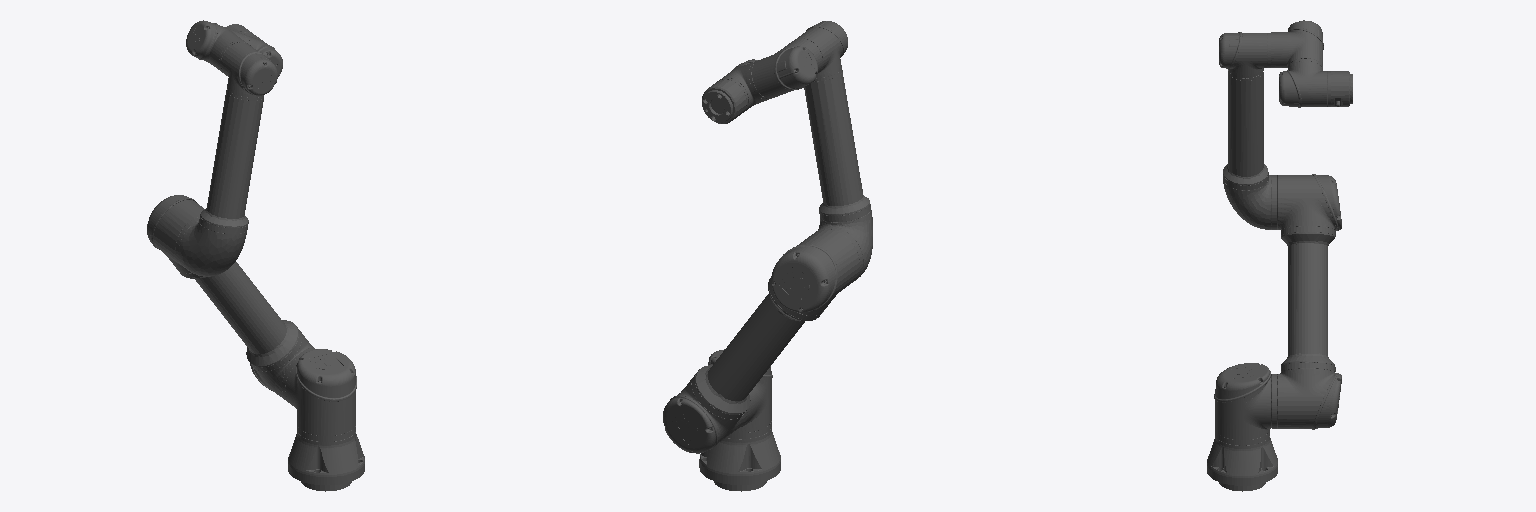
The robot description file, URDF, robot "ur5e_robot":
<?xml version="1.0" ?>
<!-- =================================================================================== -->
<!-- |    This document was autogenerated by xacro from ur5e.xacro                     | -->
<!-- |    EDITING THIS FILE BY HAND IS NOT RECOMMENDED                                 | -->
<!-- =================================================================================== -->
<robot name="ur5e_robot">
  <!--
    Base UR robot series xacro macro.

    NOTE: this is NOT a URDF. It cannot directly be loaded by consumers
    expecting a flattened '.urdf' file. See the top-level '.xacro' for that
    (but note: that .xacro must still be processed by the xacro command).

    For use in '.launch' files: use one of the 'load_urX.launch' convenience
    launch files.

    This file models the base kinematic chain of a UR robot, which then gets
    parameterised by various configuration files to convert it into a UR3(e),
    UR5(e), UR10(e) or UR16e.

    NOTE: the default kinematic parameters (ie: link lengths, frame locations,
    offets, etc) do not correspond to any particular robot. They are defaults
    only. There WILL be non-zero offsets between the Forward Kinematics results
    in TF (ie: robot_state_publisher) and the values reported by the Teach
    Pendant.

    For accurate (and robot-specific) transforms, the 'kinematics_parameters_file'
    parameter MUST point to a .yaml file containing the appropriate values for
    the targetted robot.

    If using the UniversalRobots/Universal_Robots_ROS_Driver, follow the steps
    described in the readme of that repository to extract the kinematic
    calibration from the controller and generate the required .yaml file.

    Main author of the migration to yaml configs: [author].

    Contributors to previous versions (in no particular order):

     - [author]
     - [author]
     - [author]
     - [author]
     - [author]
     - [author]
     - [author]
     - [author]
     - [author]
     - [author]
     - [author]
     - [author]
     - [author]
     - [author]
     - [author]
     - [author]
     - [author]
  -->
  <!--
    NOTE: the macro defined in this file is NOT part of the public API of this
          package. Users CANNOT rely on this file being available, or stored in
          this location. Nor can they rely on the existence of the macro.
  -->
  
  <!-- links: main serial chain -->
  <link name="base_link">
    <visual>
      <origin rpy="0 0 0" xyz="0 0 0"/>
      <geometry>
        <cylinder length="0.05" radius="0.05"/>
      </geometry>
      <material name="LightGrey">
        <color rgba="0.4 0.4 0.4 1.0"/>
      </material>
    </visual>
  </link>

  <link name="base_link_inertia">
    <visual>
      <origin rpy="0 0 3.141592653589793" xyz="0 0 0"/>
      <geometry>
        <mesh filename="./visual/base.stl" scale="1 1 1"/>
      </geometry>
      <material name="LightGrey">
        <color rgba="0.4 0.4 0.4 1.0"/>
      </material>
    </visual>
    <collision>
      <origin rpy="0 0 3.141592653589793" xyz="0 0 0"/>
      <geometry>
        <mesh filename="./collision/base.stl" scale="1 1 1"/>
      </geometry>
    </collision>
    <inertial>
      <mass value="4.0"/>
      <origin rpy="0 0 0" xyz="0 0 0"/>
      <inertia ixx="0.00443333156" ixy="0.0" ixz="0.0" iyy="0.00443333156" iyz="0.0" izz="0.0072"/>
    </inertial>
  </link>

  <link name="shoulder_link">
    <visual>
      <origin rpy="0 0 3.141592653589793" xyz="0 0 0"/>
      <geometry>
        <mesh filename="./visual/shoulder.stl" scale="1 1 1"/>
      </geometry>
      <material name="LightGrey">
        <color rgba="0.4 0.4 0.4 1.0"/>
      </material>
    </visual>
    <collision>
      <origin rpy="0 0 3.141592653589793" xyz="0 0 0"/>
      <geometry>
        <mesh filename="./collision/shoulder.stl" scale="1 1 1"/>
      </geometry>
    </collision>
    <inertial>
      <mass value="3.7"/>
      <origin rpy="0 0 0" xyz="0 0 0"/>
      <inertia ixx="0.010267495893" ixy="0.0" ixz="0.0" iyy="0.010267495893" iyz="0.0" izz="0.00666"/>
    </inertial>
  </link>

  <link name="upper_arm_link">
    <visual>
      <origin rpy="1.5707963267948966 0 -1.5707963267948966" xyz="0 0 0.138"/>
      <geometry>
        <mesh filename="./visual/upperarm.stl" scale="1 1 1"/>
      </geometry>
      <material name="LightGrey">
        <color rgba="0.4 0.4 0.4 1.0"/>
      </material>
    </visual>
    <collision>
      <origin rpy="1.5707963267948966 0 -1.5707963267948966" xyz="0 0 0.138"/>
      <geometry>
        <mesh filename="./collision/upperarm.stl" scale="1 1 1"/>
      </geometry>
    </collision>
    <inertial>
      <mass value="8.393"/>
      <origin rpy="0 1.5707963267948966 0" xyz="-0.2125 0.0 0.138"/>
      <inertia ixx="0.1338857818623325" ixy="0.0" ixz="0.0" iyy="0.1338857818623325" iyz="0.0" izz="0.0151074"/>
    </inertial>
  </link>

  <link name="forearm_link">
    <visual>
      <origin rpy="1.5707963267948966 0 -1.5707963267948966" xyz="0 0 0.007"/>
      <geometry>
        <mesh filename="./visual/forearm.stl" scale="1 1 1"/>
      </geometry>
      <material name="LightGrey">
        <color rgba="0.4 0.4 0.4 1.0"/>
      </material>
    </visual>
    <collision>
      <origin rpy="1.5707963267948966 0 -1.5707963267948966" xyz="0 0 0.007"/>
      <geometry>
        <mesh filename="./collision/forearm.stl" scale="1 1 1"/>
      </geometry>
    </collision>
    <inertial>
      <mass value="2.275"/>
      <origin rpy="0 1.5707963267948966 0" xyz="-0.1961 0.0 0.007"/>
      <inertia ixx="0.031209355099586295" ixy="0.0" ixz="0.0" iyy="0.031209355099586295" iyz="0.0" izz="0.004095"/>
    </inertial>
  </link>

  <link name="wrist_1_link">
    <visual>
      <!-- TODO: Move this to a parameter -->
      <origin rpy="1.5707963267948966 0 0" xyz="0 0 -0.127"/>
      <geometry>
        <mesh filename="./visual/wrist1.stl" scale="1 1 1"/>
      </geometry>
      <material name="LightGrey">
        <color rgba="0.4 0.4 0.4 1.0"/>
      </material>
    </visual>
    <collision>
      <origin rpy="1.5707963267948966 0 0" xyz="0 0 -0.127"/>
      <geometry>
        <mesh filename="./collision/wrist1.stl" scale="1 1 1"/>
      </geometry>
    </collision>
    <inertial>
      <mass value="1.219"/>
      <origin rpy="0 0 0" xyz="0 0 0"/>
      <inertia ixx="0.0025598989760400002" ixy="0.0" ixz="0.0" iyy="0.0025598989760400002" iyz="0.0" izz="0.0021942"/>
    </inertial>
  </link>

  <link name="wrist_2_link">
    <visual>
      <origin rpy="0 0 0" xyz="0 0 -0.0997"/>
      <geometry>
        <mesh filename="./visual/wrist2.stl" scale="1 1 1"/>
      </geometry>
      <material name="LightGrey">
        <color rgba="0.4 0.4 0.4 1.0"/>
      </material>
    </visual>
    <collision>
      <origin rpy="0 0 0" xyz="0 0 -0.0997"/>
      <geometry>
        <mesh filename="./collision/wrist2.stl" scale="1 1 1"/>
      </geometry>
    </collision>
    <inertial>
      <mass value="1.219"/>
      <origin rpy="0 0 0" xyz="0 0 0"/>
      <inertia ixx="0.0025598989760400002" ixy="0.0" ixz="0.0" iyy="0.0025598989760400002" iyz="0.0" izz="0.0021942"/>
    </inertial>
  </link>

  <link name="wrist_3_link">
    <visual>
      <origin rpy="1.5707963267948966 0 0" xyz="0 0 -0.0989"/>
      <geometry>
        <mesh filename="./visual/wrist3.stl" scale="1 1 1"/>
      </geometry>
      <material name="LightGrey">
        <color rgba="0.4 0.4 0.4 1.0"/>
      </material>
    </visual>
    <collision>
      <origin rpy="1.5707963267948966 0 0" xyz="0 0 -0.0989"/>
      <geometry>
        <mesh filename="./collision/wrist3.stl" scale="1 1 1"/>
      </geometry>
    </collision>
    <inertial>
      <mass value="0.1879"/>
      <origin rpy="0 0 0" xyz="0.0 0.0 -0.0229"/>
      <inertia ixx="9.890410052167731e-05" ixy="0.0" ixz="0.0" iyy="9.890410052167731e-05" iyz="0.0" izz="0.0001321171875"/>
    </inertial>
  </link>
  <!-- joints: main serial chain -->
  <joint name="base_link-base_link_inertia" type="fixed">
    <parent link="base_link"/>
    <child link="base_link_inertia"/>
    <!-- 'base_link' is REP-103 aligned (so X+ forward), while the internal
           frames of the robot/controller have X+ pointing backwards.
           Use the joint between 'base_link' and 'base_link_inertia' (a dummy
           link/frame) to introduce the necessary rotation over Z (of pi rad).
      -->
    <origin rpy="0 0 3.141592653589793" xyz="0 0 0"/>
  </joint>

  <joint name="shoulder_pan_joint" type="revolute">
    <parent link="base_link_inertia"/>
    <child link="shoulder_link"/>
    <origin rpy="0 0 0" xyz="0 0 0.1625"/>
    <axis xyz="0 0 1"/>
    <limit effort="150.0" lower="-6.283185307179586" upper="6.283185307179586" velocity="3.141592653589793"/>
    <dynamics damping="0" friction="0"/>
  </joint>

  <joint name="shoulder_lift_joint" type="revolute">
    <parent link="shoulder_link"/>
    <child link="upper_arm_link"/>
    <origin rpy="1.570796327 2.170796327 0" xyz="0 0 0"/>
    <axis xyz="0 0 1"/>
    <limit effort="150.0" lower="-6.283185307179586" upper="6.283185307179586" velocity="3.141592653589793"/>
    <dynamics damping="0" friction="0"/>
  </joint>

  <joint name="elbow_joint" type="revolute">
    <parent link="upper_arm_link"/>
    <child link="forearm_link"/>
    <origin rpy="0 0 0.78" xyz="-0.425 0 0"/>
    <axis xyz="0 0 1"/>
    <limit effort="150.0" lower="-3.141592653589793" upper="3.141592653589793" velocity="3.141592653589793"/>
    <dynamics damping="0" friction="0"/>
  </joint>

  <joint name="wrist_1_joint" type="revolute">
    <parent link="forearm_link"/>
    <child link="wrist_1_link"/>
    <origin rpy="0 0 0.35" xyz="-0.3922 0 0.1333"/>
    <axis xyz="0 0 1"/>
    <limit effort="28.0" lower="-6.283185307179586" upper="6.283185307179586" velocity="3.141592653589793"/>
    <dynamics damping="0" friction="0"/>
  </joint>

  <joint name="wrist_2_joint" type="revolute">
    <parent link="wrist_1_link"/>
    <child link="wrist_2_link"/>
    <origin rpy="1.570796327 0 0" xyz="0 -0.0997 -2.044881182297852e-11"/>
    <axis xyz="0 0 1"/>
    <limit effort="28.0" lower="-6.283185307179586" upper="6.283185307179586" velocity="3.141592653589793"/>
    <dynamics damping="0" friction="0"/>
  </joint>

  <joint name="wrist_3_joint" type="revolute">
    <parent link="wrist_2_link"/>
    <child link="wrist_3_link"/>
    <origin rpy="1.570796326589793 3.141592653589793 3.141592653589793" xyz="0 0.0996 -2.042830148012698e-11"/>
    <axis xyz="0 0 1"/>
    <limit effort="28.0" lower="-6.283185307179586" upper="6.283185307179586" velocity="3.141592653589793"/>
    <dynamics damping="0" friction="0"/>
  </joint>

</robot>

--- What the picture shows (computed from the rendered views, not written in the file) ---
The picture shows the robot from 3 angles, left to right: view 1: azimuth 30°, elevation 25°; view 2: azimuth 150°, elevation 25°; view 3: azimuth 270°, elevation 25°; orthographic projection.
Robot: ur5e_robot — 8 links, 7 joints (6 revolute, 1 fixed); root link base_link; default pose: all joints at 0.
Links seen in each view (by area): view 1: forearm_link, upper_arm_link, shoulder_link, base_link_inertia, wrist_1_link, wrist_2_link; view 2: upper_arm_link, forearm_link, base_link_inertia, wrist_1_link, wrist_3_link, shoulder_link, wrist_2_link; view 3: upper_arm_link, forearm_link, shoulder_link, base_link_inertia, wrist_2_link, wrist_1_link, wrist_3_link.
Link boxes in pixels (x1,y1,x2,y2): forearm_link: (179,41,277,276); upper_arm_link: (147,195,316,399); shoulder_link: (282,349,356,435); base_link_inertia: (288,426,364,484); wrist_1_link: (186,20,249,72); wrist_2_link: (239,31,282,76); upper_arm_link: (663,227,862,453); forearm_link: (795,21,872,280); base_link_inertia: (699,421,780,484); wrist_1_link: (749,39,820,99); wrist_3_link: (702,79,746,123); shoulder_link: (708,349,772,432); wrist_2_link: (717,59,766,112); upper_arm_link: (1271,174,1341,429); forearm_link: (1219,32,1270,229); shoulder_link: (1214,363,1277,439); base_link_inertia: (1207,430,1277,485); wrist_2_link: (1279,61,1330,107); wrist_1_link: (1271,20,1323,67); wrist_3_link: (1331,71,1352,106).
Size in the robot's own frame: 0.3752 by 0.3085 by 0.9801 metres.
Meshes: 7 distinct files referenced, 7 mesh visuals loaded (7 binary STL).